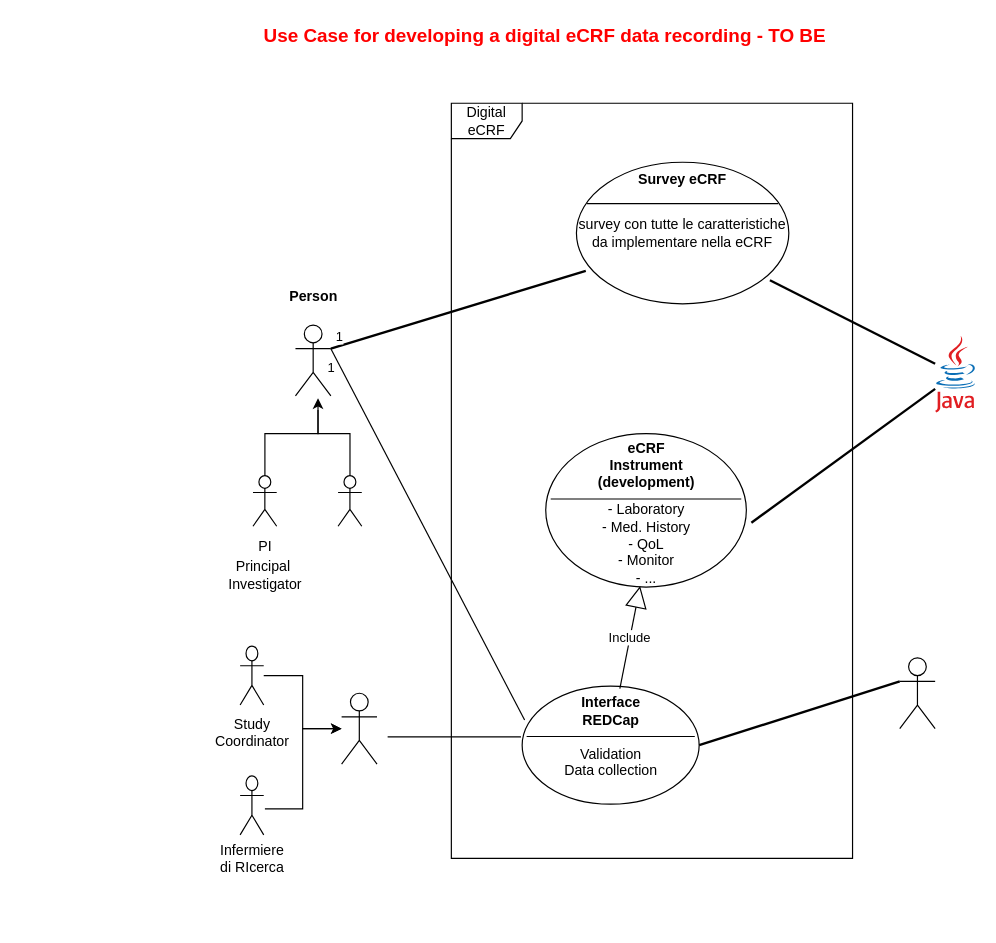
Some shapes in this 996 by 943 pixel diagram are drawn without their labels. The centre of each missing label's shape, as x and y in pixels:
"Data Manager" belongs at point 358,728.
"Data Scientist" belongs at point 917,693.
"START UP CTC" belongs at point 349,500.
